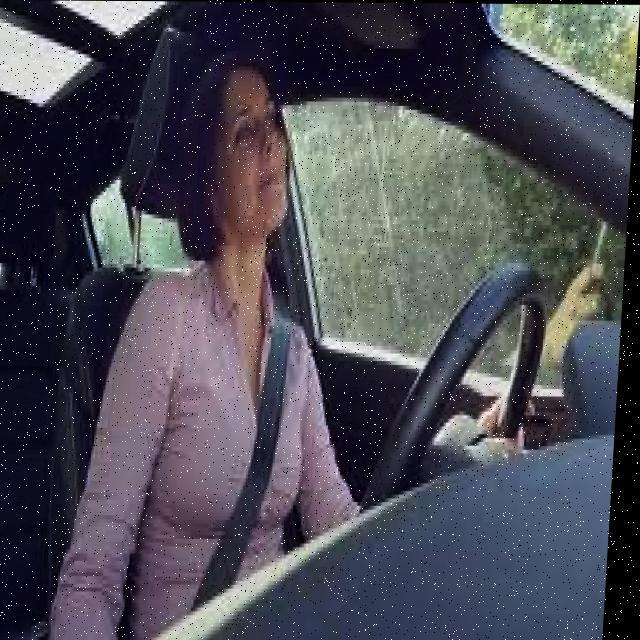seatbelt: (141, 260, 344, 618)
